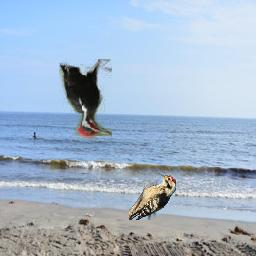Woodpecker: (60, 60, 113, 143), (130, 174, 177, 221)
